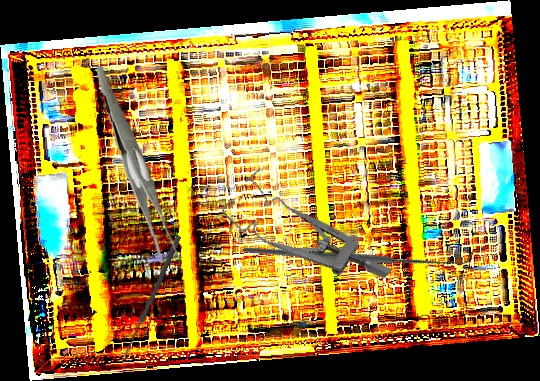Dressing Forceps: (96, 63, 179, 266)
Hook Surgical: (241, 145, 474, 360)
Speculum: (218, 156, 394, 324)
Surgical Spoon: (120, 234, 182, 362)
